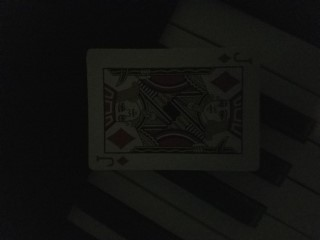JackOfDiamonds: (85, 45, 261, 174)
